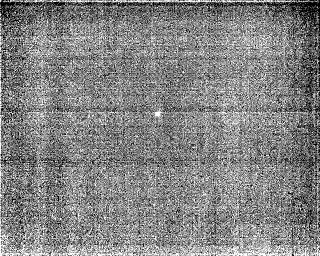BIRD: (152, 108, 164, 122)
